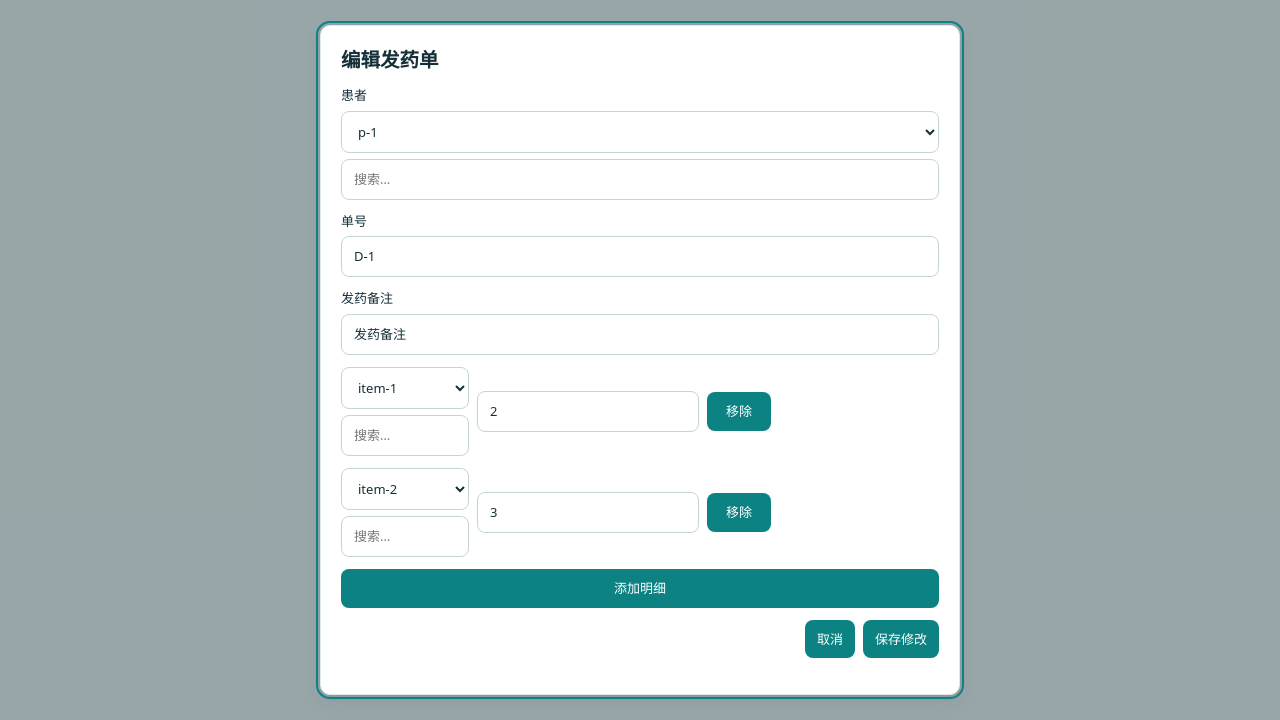
Test: DispenseEditDialog › prefills the form and submits an updated dispense with server item ids
The image size is (1280, 720).
Expected: the field showing "发药备注" is shown, left=341, top=314, right=939, bottom=355
Replace the text in the field named "编辑单号" with "D-1-EDITED": coordinates (640, 257) left=341, top=236, right=939, bottom=277
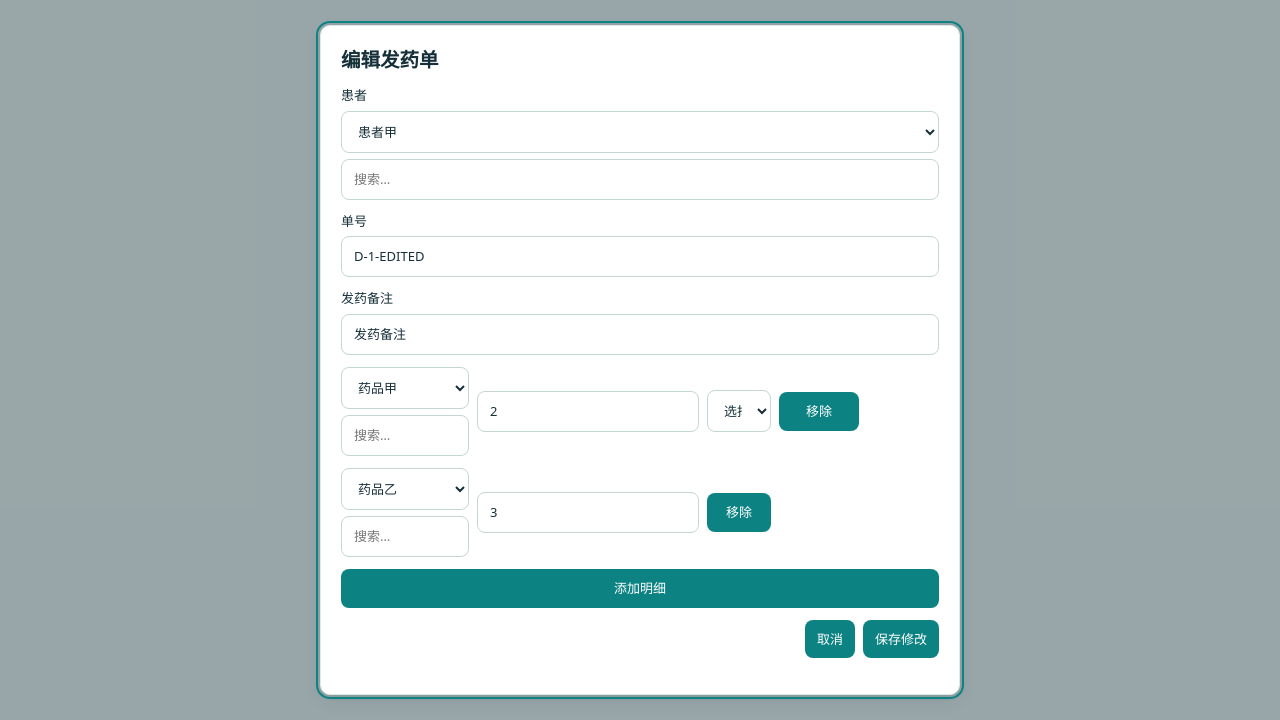
Replace the text in the field named "编辑发药备注" with "新备注": coordinates (640, 334) left=341, top=314, right=939, bottom=355
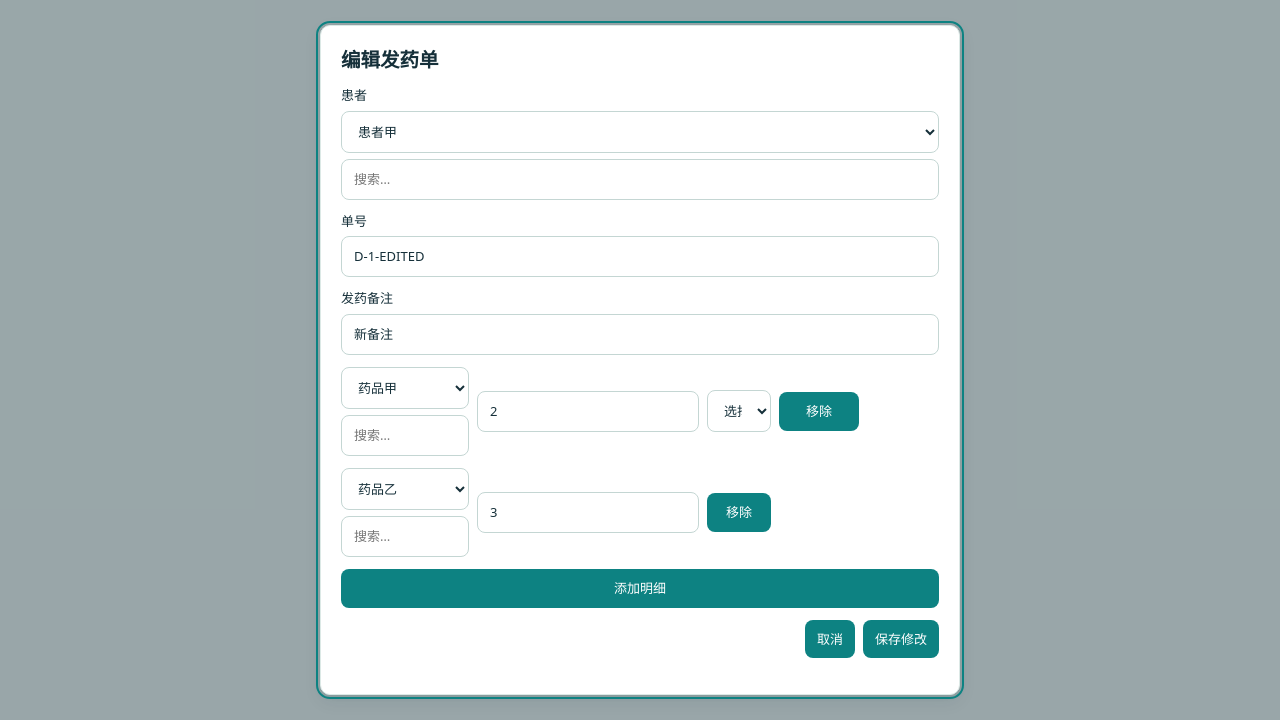
Click the button "保存修改": coordinates (901, 639) left=863, top=620, right=939, bottom=658
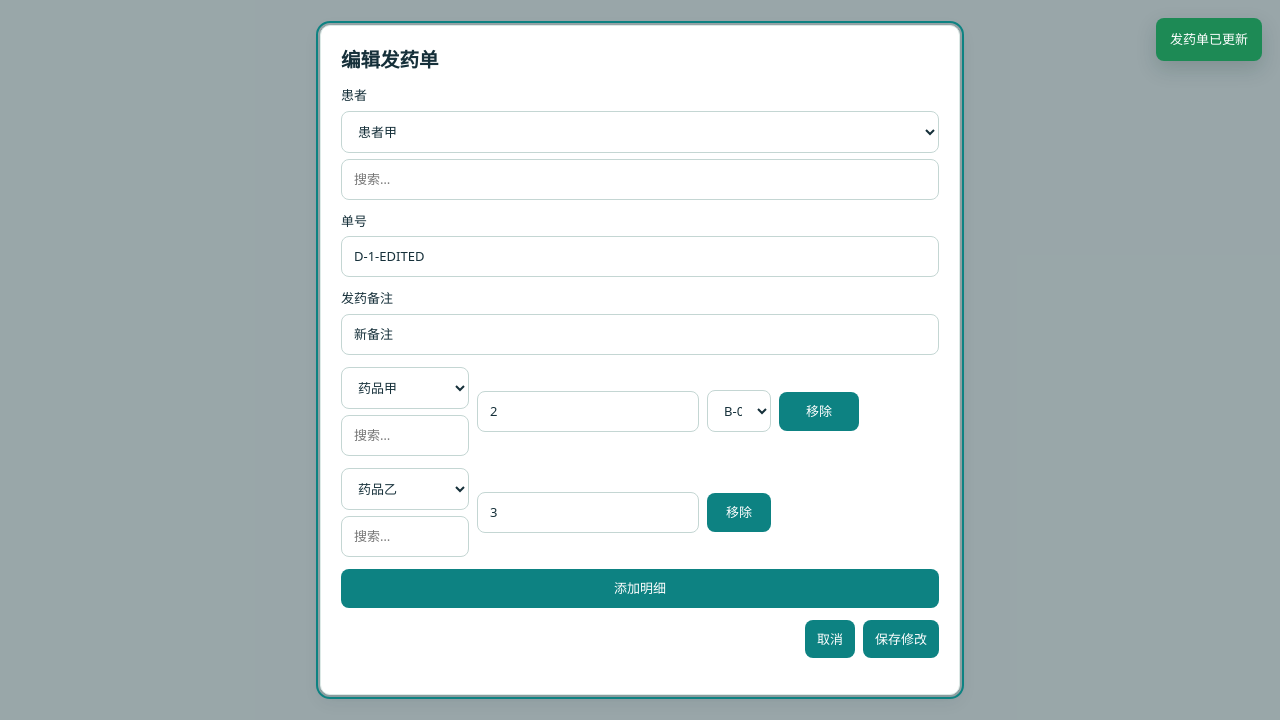
Now the text "发药单已更新" is shown, box left=1156, top=18, right=1262, bottom=61
